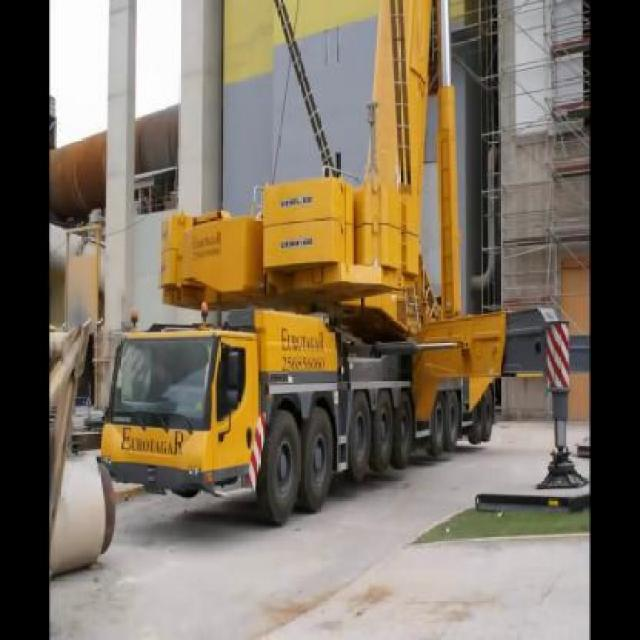Mobile Crane: (95, 0, 567, 552)
